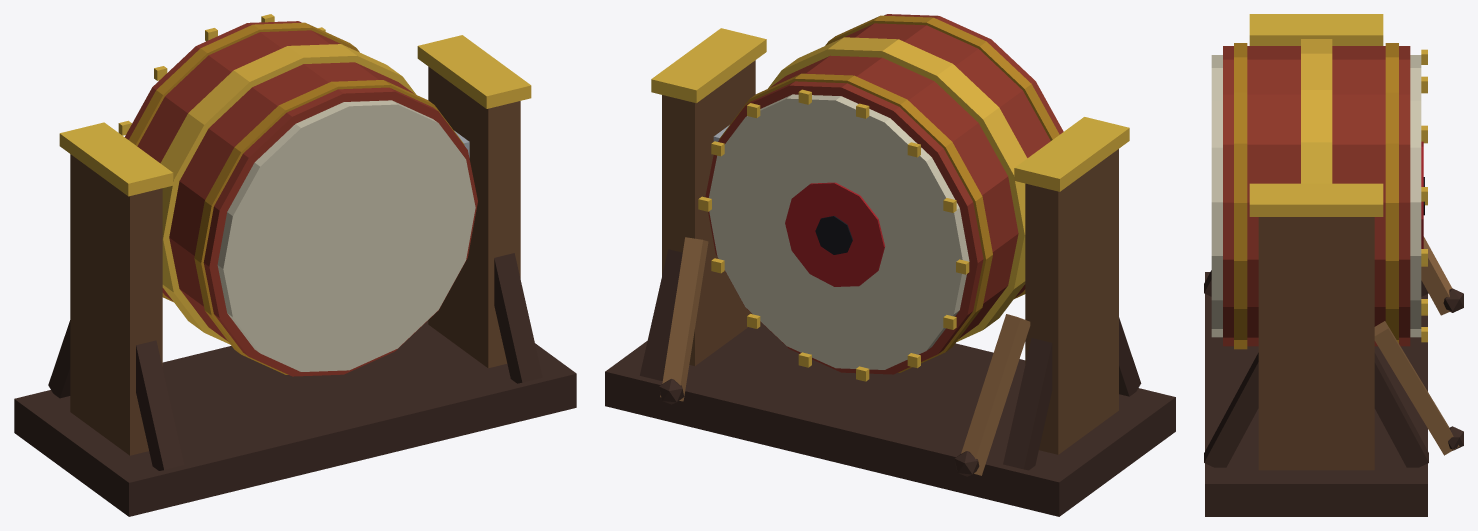
Rendered from Decor_NinjaDojo_Taiko.fbx.
3 views of the same model, side by side, from view 1: azimuth 30°, elevation 25°; view 2: azimuth 150°, elevation 25°; view 3: azimuth 270°, elevation 25° (orthographic). The views are drawn at different scales.
Visible parts, largest first — view 1: Taiko_Body; view 2: Taiko_Body; view 3: Taiko_Body.
Part boxes in pixels (x1,y1,x2,y2): Taiko_Body: (14,14,576,516); Taiko_Body: (605,14,1175,516); Taiko_Body: (1204,14,1463,516).
Bounding box in the file's own units: 11 × 8.65 × 5.7.
